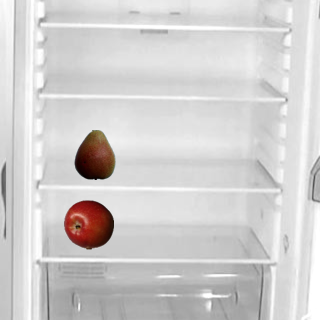Apple Braeburn: (63, 199, 113, 249)
Pear Forelle: (69, 129, 119, 179)
